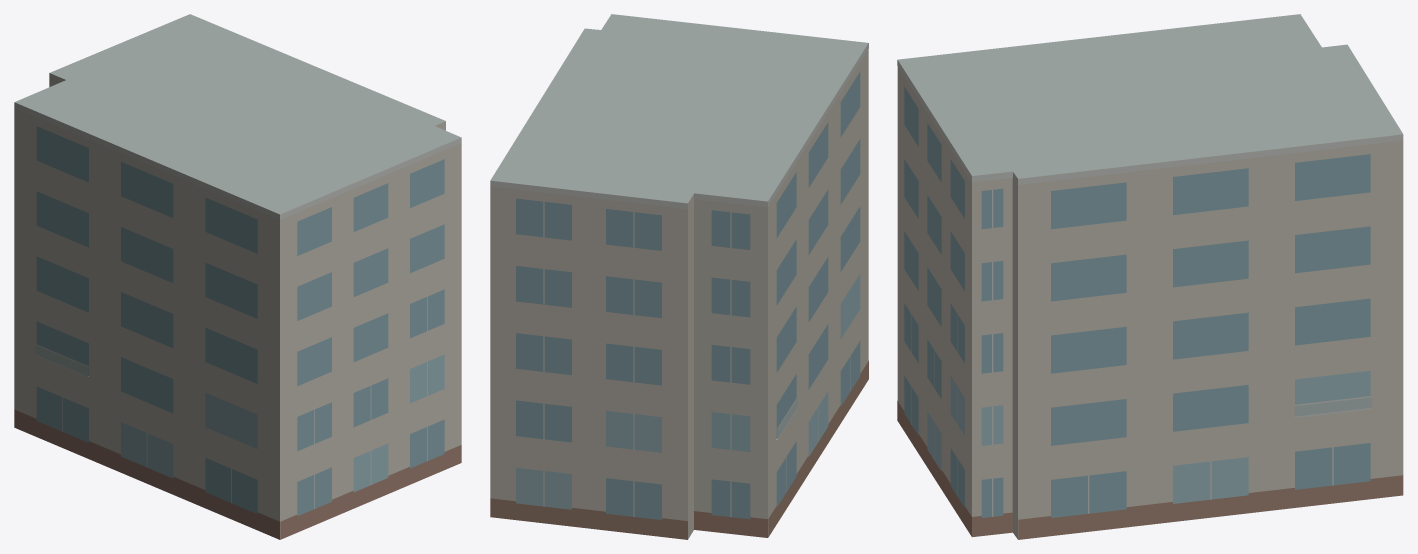
Rendered from survey-upis-32687764.glb.
3 renders of one model, left to right at view 1: azimuth 30°, elevation 25°; view 2: azimuth 150°, elevation 25°; view 3: azimuth 270°, elevation 25°, orthographic. The views are drawn at different scales.
Parts seen in each view (by area): view 1: survey-upis-32687764.tmp; view 2: survey-upis-32687764.tmp; view 3: survey-upis-32687764.tmp.
Part boxes in pixels (<box>): survey-upis-32687764.tmp: <box>14,14,461,539</box>; survey-upis-32687764.tmp: <box>490,14,868,539</box>; survey-upis-32687764.tmp: <box>897,14,1403,539</box>.
Bounding box in the file's own units: 13.92 × 14.2 × 18.05.
